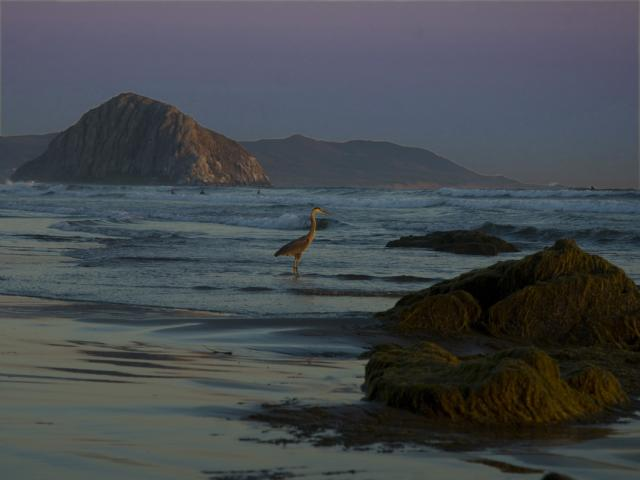Bird: (272, 210, 326, 275)
